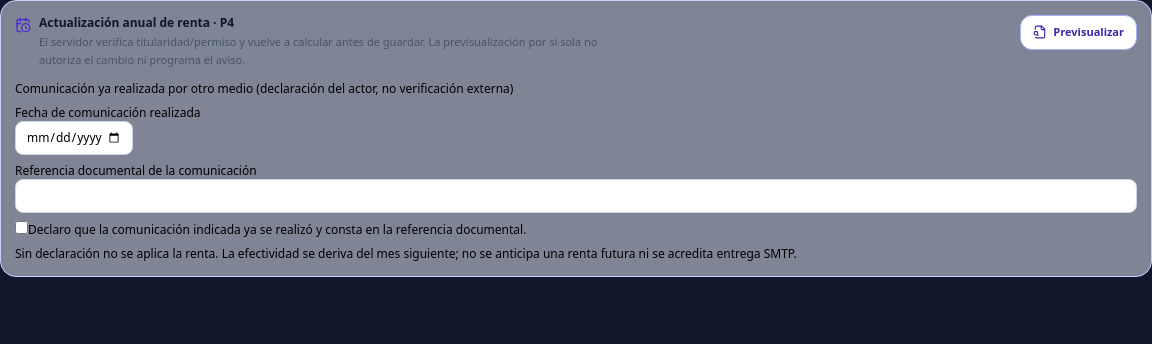
Test: ActualizacionRentaPreviewPanel › muestra fallos del endpoint sin crear estado local
Click the button "Previsualizar".
click(1079, 32)  # box [1020,15,1137,50]
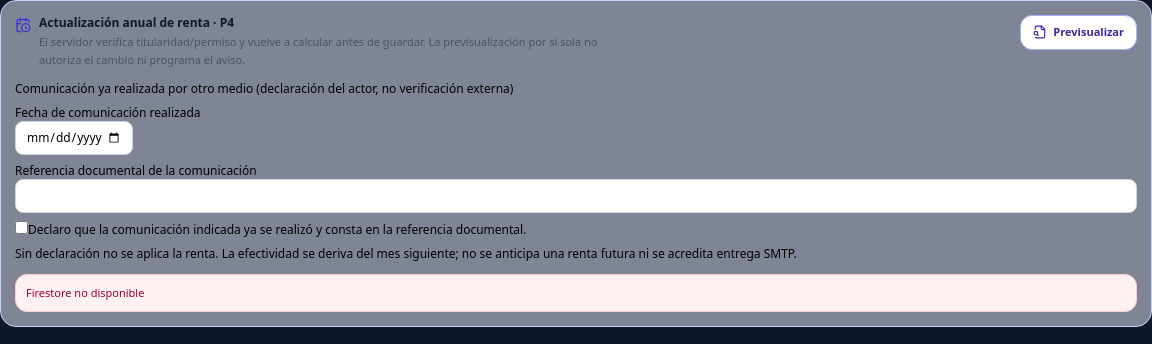
Expected: the message reads "Firestore no disponible", [26,285,144,300]
